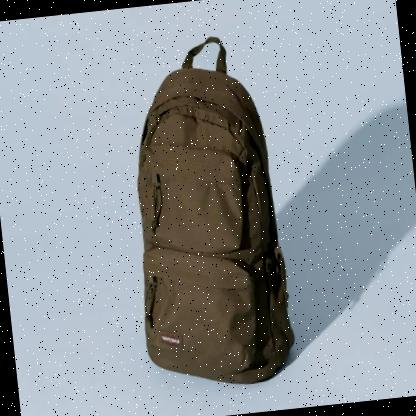bag: (112, 26, 302, 396)
